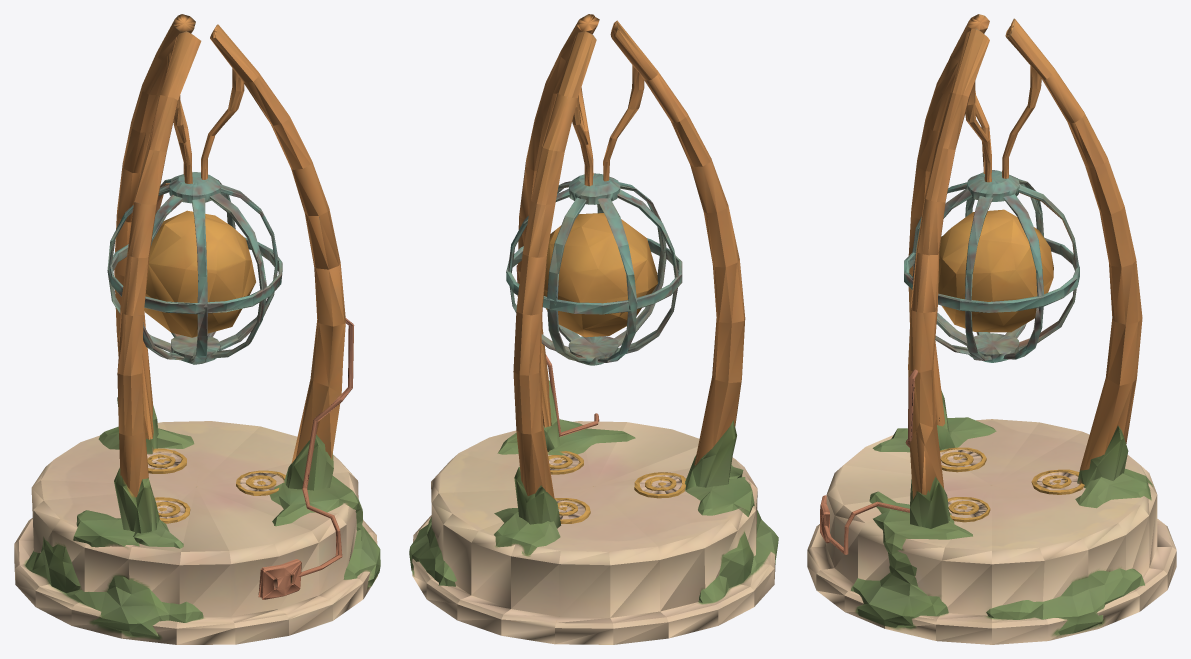
The model's file is lanterne_sommet.glb.
The picture shows the model from 3 angles, left to right: view 1: azimuth 30°, elevation 25°; view 2: azimuth 150°, elevation 25°; view 3: azimuth 270°, elevation 25°; orthographic projection.
Parts seen in each view (by area): view 1: pied, Cage, Coeur; view 2: pied, Cage, Coeur; view 3: pied, Cage, Coeur.
Part boxes in pixels (bbox=[...]): pied: bbox=[14, 14, 380, 644]; Cage: bbox=[107, 172, 282, 364]; Coeur: bbox=[144, 210, 255, 337]; pied: bbox=[409, 14, 778, 644]; Cage: bbox=[506, 173, 682, 365]; Coeur: bbox=[543, 213, 657, 337]; pied: bbox=[807, 14, 1176, 644]; Cage: bbox=[904, 170, 1079, 362]; Coeur: bbox=[938, 209, 1053, 332].
Size of the model in its own units: 1.94 by 3.15 by 1.93.
Materials: 1 (1 with a texture image).
